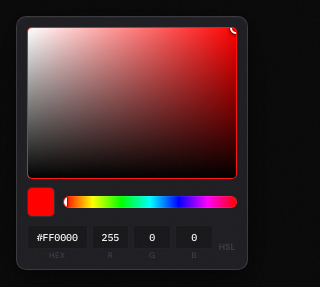
Test: ColorPicker › toggles between RGB and HSL modes
What coordinates should you click on to do the following:
click the button with test id "mode-toggle"
I would click on:
 (227, 247)
Its box is 217,235 -> 237,259.
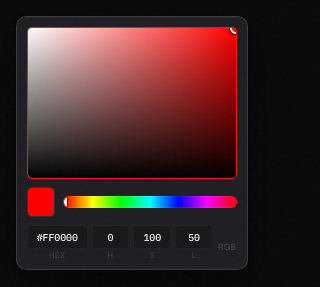
Check: the number field with test id "h-input" is shown, box 92,225 -> 129,249
Check: the number field with test id "s-input" is shown, box 133,225 -> 171,249
Check: the number field with test id "l-input" is shown, box 175,225 -> 213,249
